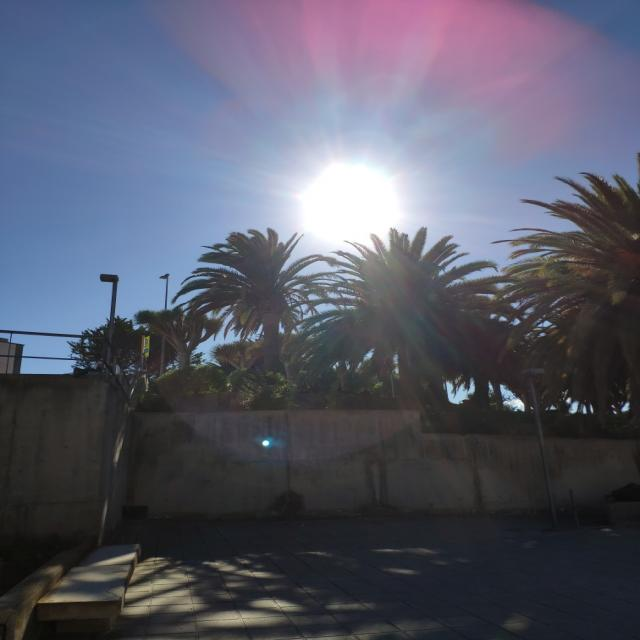Palm-Trees: (195, 226, 334, 384)
